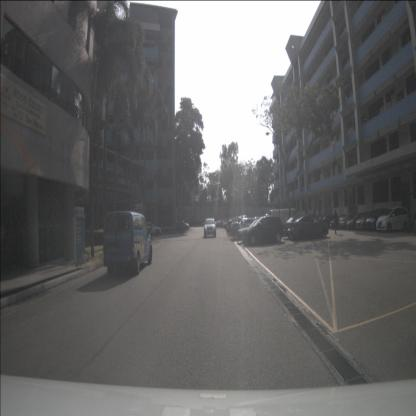human-pedestrian-adult: (334, 209, 338, 236)
vehicle-car: (103, 211, 152, 275), (242, 216, 284, 245), (287, 214, 328, 240), (237, 218, 280, 242), (376, 207, 410, 232), (269, 209, 300, 230), (365, 210, 394, 230), (356, 213, 379, 230), (346, 213, 368, 230), (234, 218, 255, 235), (339, 213, 361, 229), (140, 222, 161, 236), (330, 216, 348, 230), (204, 218, 216, 237), (320, 215, 334, 228), (175, 221, 190, 230)
vehicle-motorcycle: (227, 220, 235, 238)
